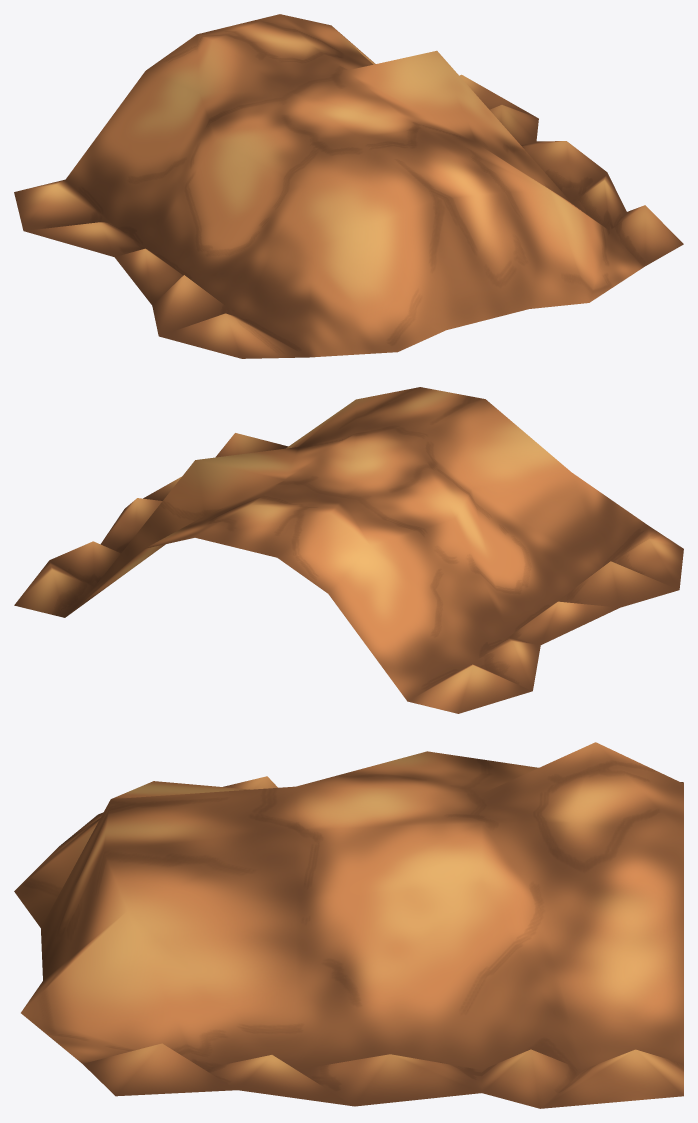
The model's file is mogura_tunnel_end.fbx.
3 renders of one model, top to bottom at view 1: azimuth 30°, elevation 25°; view 2: azimuth 150°, elevation 25°; view 3: azimuth 270°, elevation 25°, orthographic. The views are drawn at different scales.
Visible parts, largest first — view 1: Mogura_tunnel_end; view 2: Mogura_tunnel_end; view 3: Mogura_tunnel_end.
Part boxes in pixels (x1=…): Mogura_tunnel_end: x1=14, y1=14, x2=683, y2=358; Mogura_tunnel_end: x1=14, y1=387, x2=683, y2=713; Mogura_tunnel_end: x1=14, y1=742, x2=683, y2=1108.
Size of the model in its own units: 6.35 by 1.63 by 5.63.
